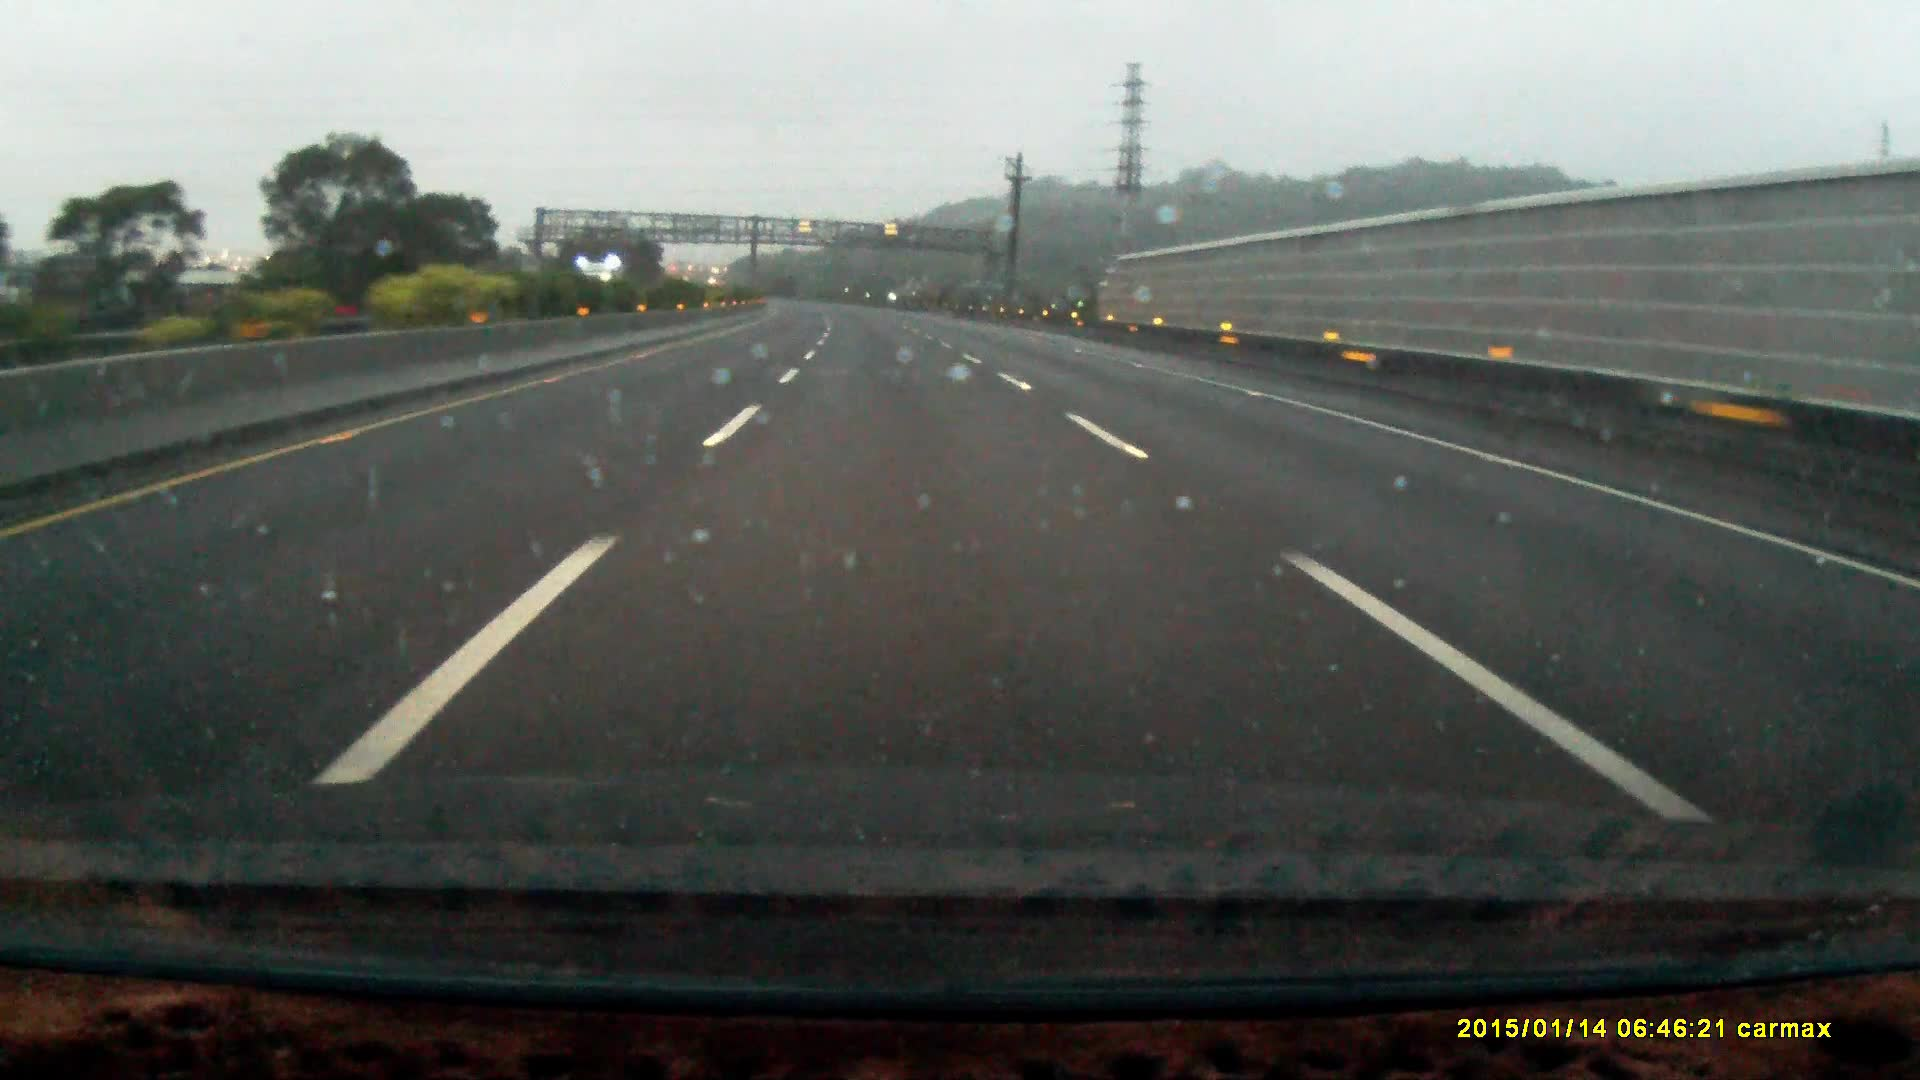vehicle: (578, 258, 626, 314)
